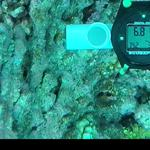dead: (3, 1, 148, 137)
